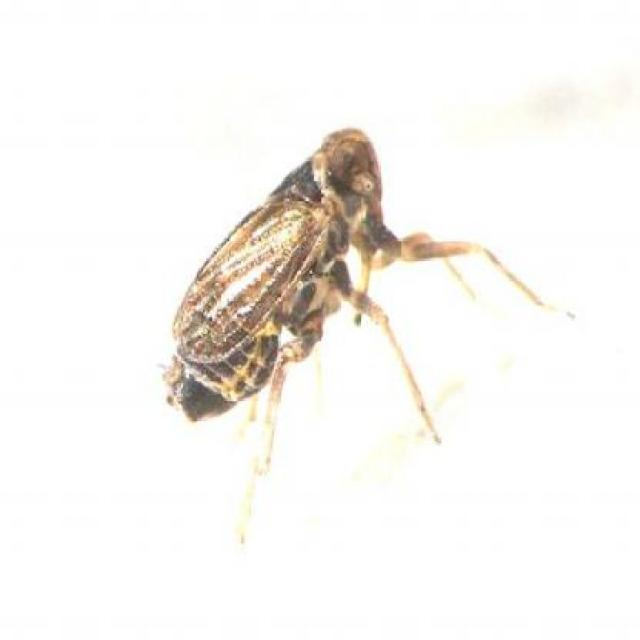brown-planthopper: (158, 115, 436, 432)
